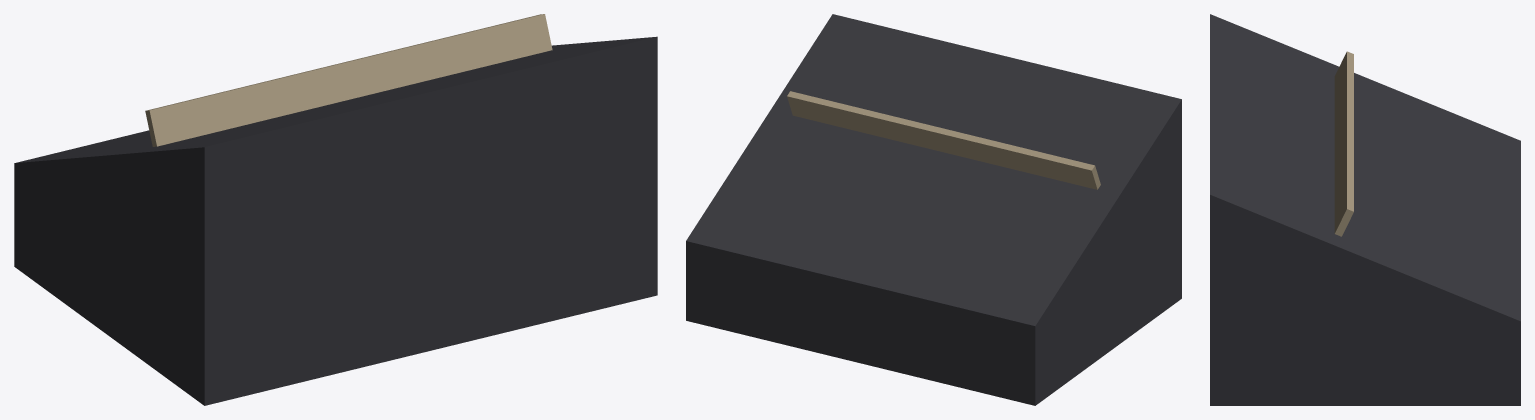
Rendered from wedge.glb.
3 views of the same model, side by side, from view 1: azimuth 30°, elevation 25°; view 2: azimuth 150°, elevation 25°; view 3: azimuth 270°, elevation 25° (orthographic). The views are drawn at different scales.
Parts seen in each view (by area): view 1: wedge; view 2: wedge; view 3: wedge.
Part boxes in pixels (left/top/right/bottom): wedge: left=14, top=14, right=657, bottom=405; wedge: left=686, top=14, right=1181, bottom=405; wedge: left=1210, top=14, right=1520, bottom=405.
Bounding box in the file's own units: 0.55 × 0.3 × 0.4.
